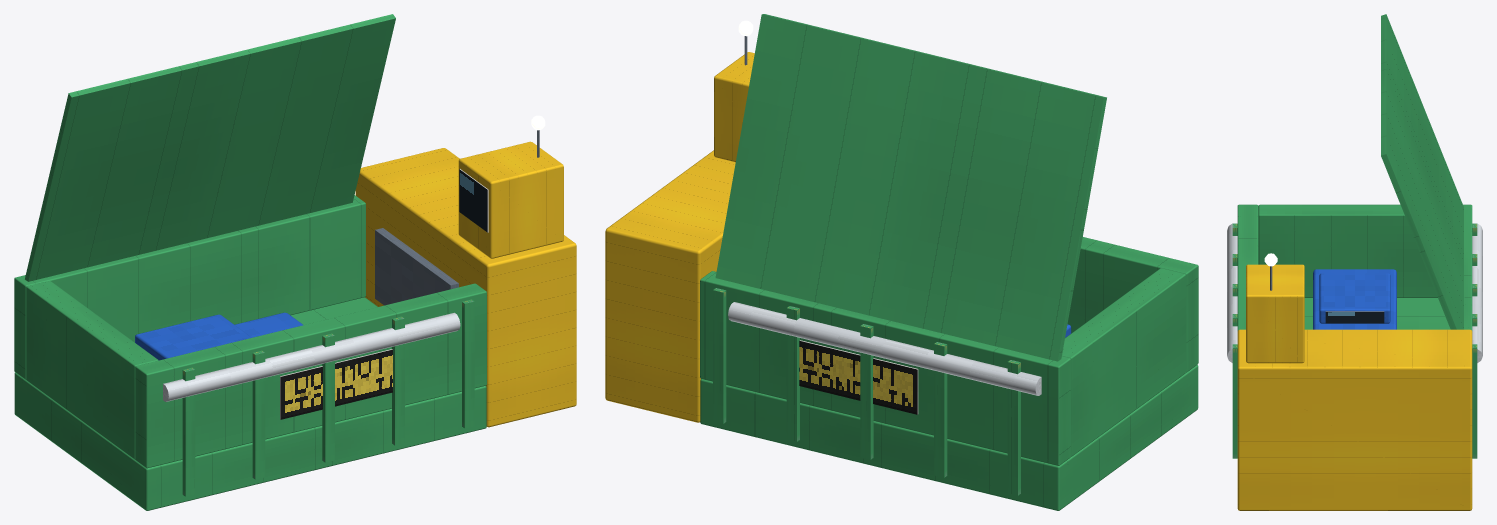
The model's file is p_sm_crusher.glb.
3 renders of one model, left to right at view 1: azimuth 30°, elevation 25°; view 2: azimuth 150°, elevation 25°; view 3: azimuth 270°, elevation 25°, orthographic. The views are drawn at different scales.
Visible parts, largest first — view 1: p_sm_crusher_lod0; view 2: p_sm_crusher_lod0; view 3: p_sm_crusher_lod0.
Boxes of the visible parts, x1=… form: p_sm_crusher_lod0: x1=14, y1=14, x2=576, y2=510; p_sm_crusher_lod0: x1=605, y1=14, x2=1198, y2=510; p_sm_crusher_lod0: x1=1227, y1=14, x2=1482, y2=510.
Size of what is drawn, in the model's own units: 10.5 by 8.28 by 6.1.
Materials: 2 (1 with a texture image).
